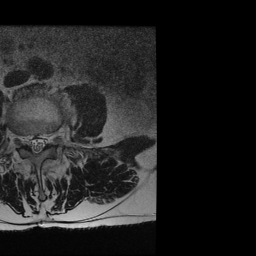CCS_normal: (33, 127, 39, 159)
LFS_normal: (47, 126, 55, 150)
LLS_normal: (40, 127, 47, 155)
RFS_normal: (17, 126, 25, 152)
RLS_normal: (25, 127, 33, 155)
